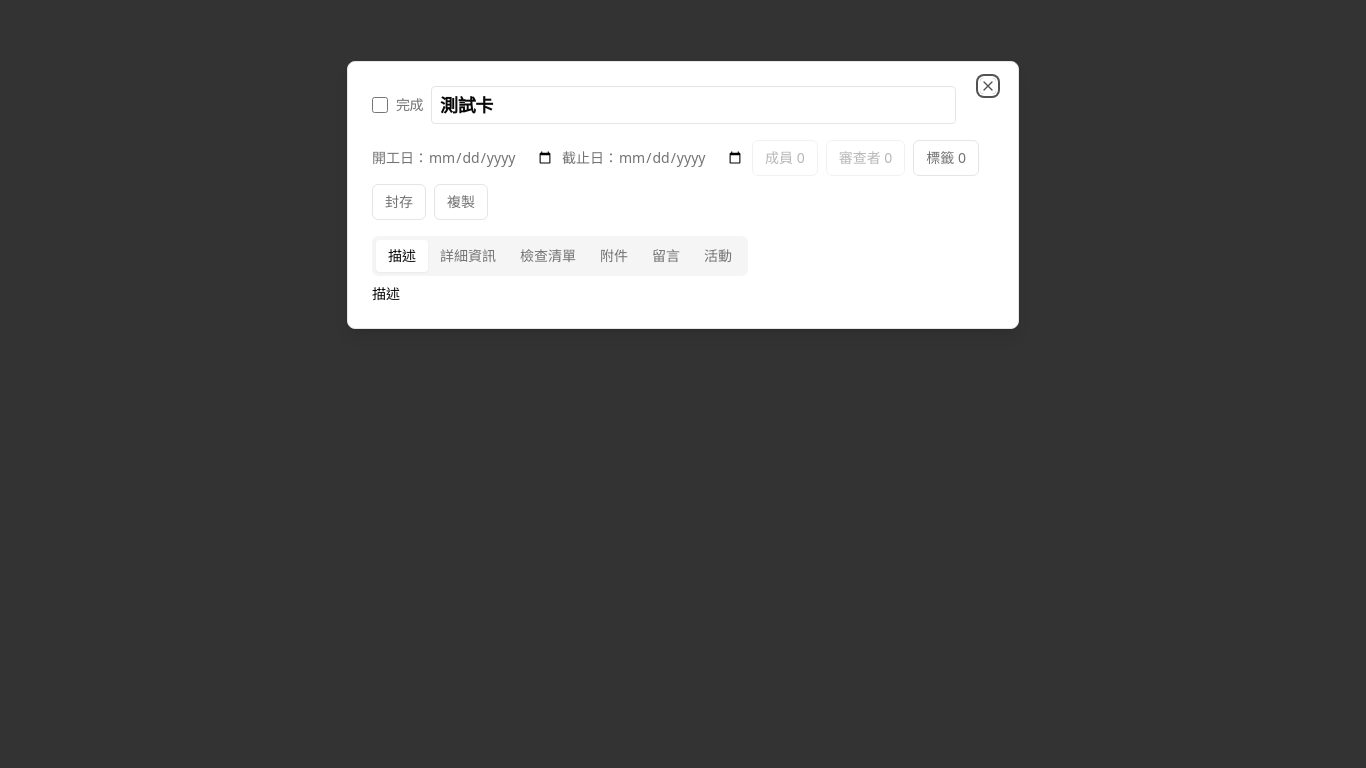
it: CopyCardDialog 三層目標選擇 › 換看板會清掉列表（同一個專案內）
Check: the field showing "測試卡" is shown, box x1=431 y1=86 x2=956 y2=124
Click the button "複製" at (461, 202), box x1=434 y1=184 x2=488 y2=220
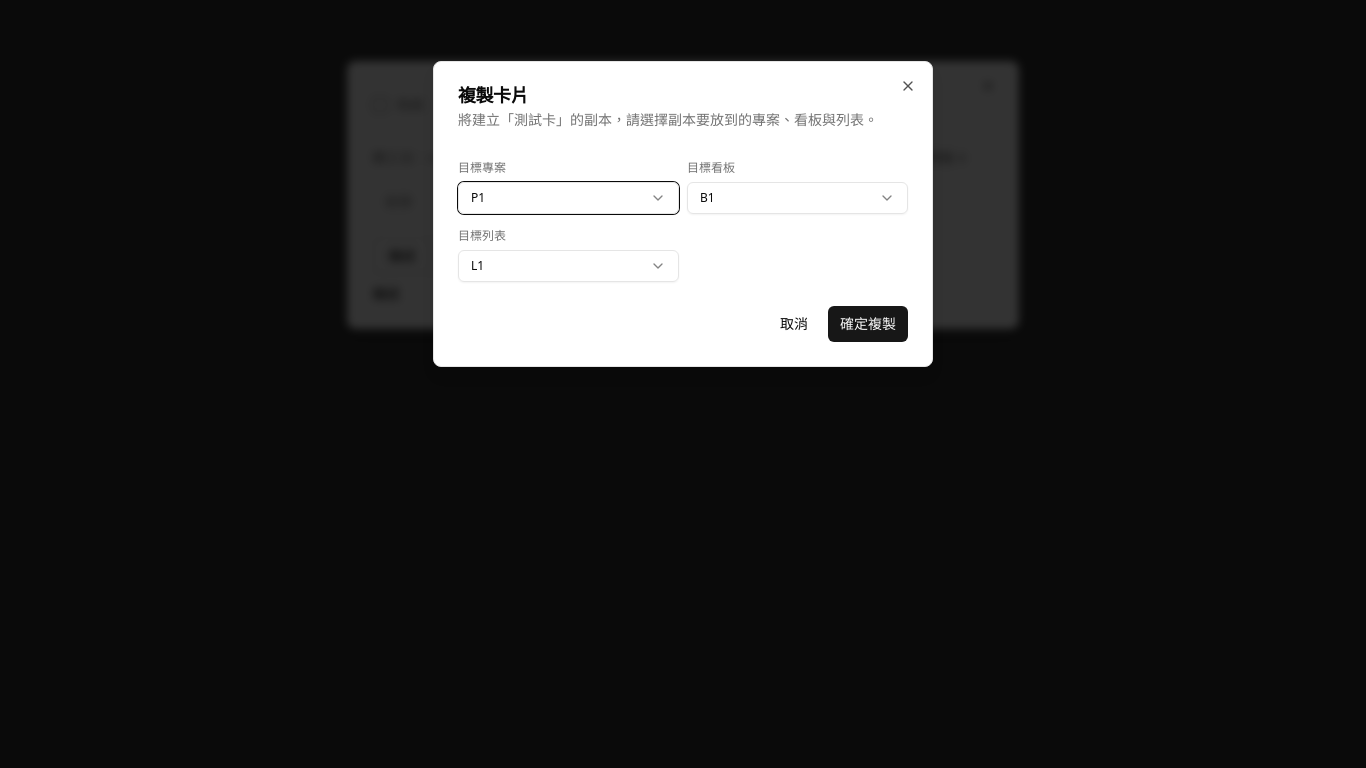
Check: the dropdown named "目標列表" is enabled, box x1=458 y1=250 x2=679 y2=282
Check: the dropdown named "目標看板" is enabled
Click the dropdown named "目標看板" at (798, 198), box x1=687 y1=182 x2=908 y2=214
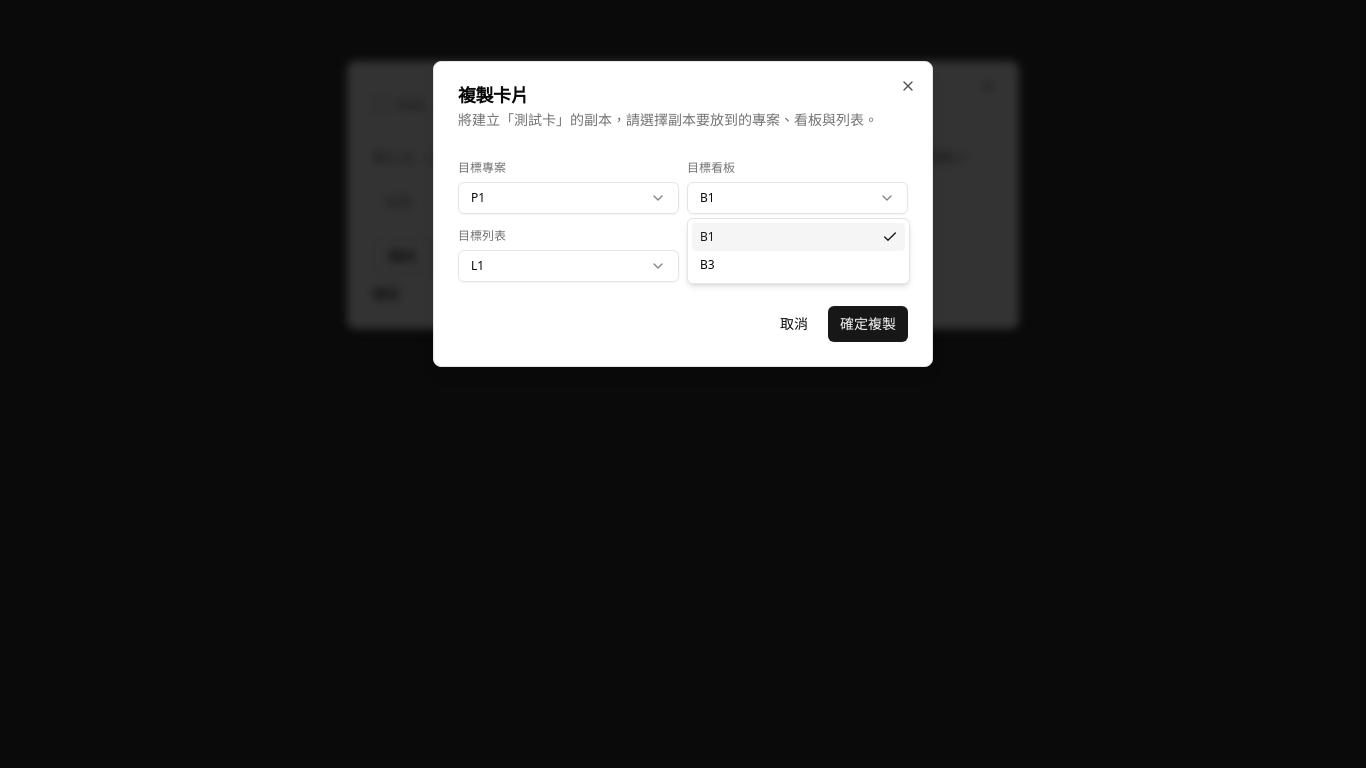
Click the option "B3" at (707, 264), box x1=700 y1=256 x2=715 y2=273
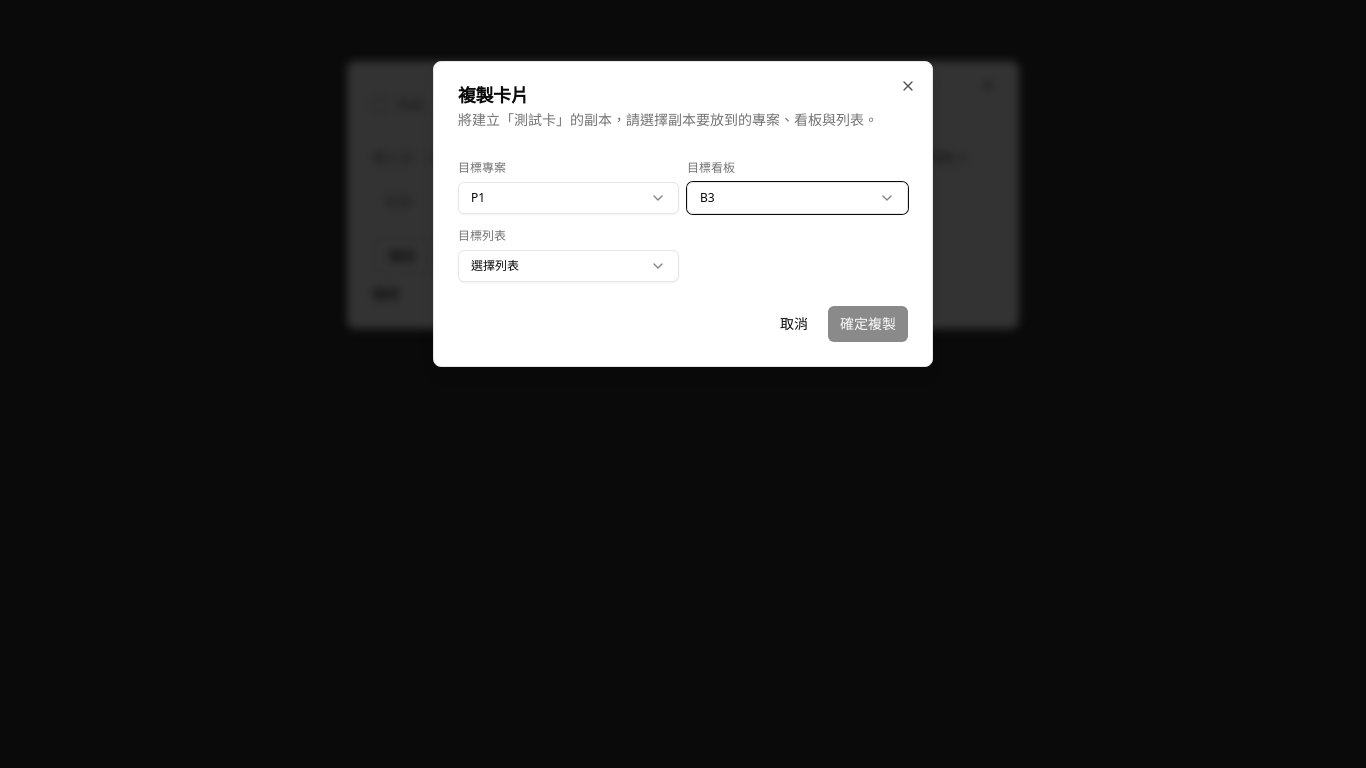
Check: the dropdown named "目標列表" no longer shows "L1", box x1=458 y1=250 x2=679 y2=282
Check: the dropdown named "目標列表" reads "選擇列表", box x1=458 y1=250 x2=679 y2=282
Check: the button "確定複製" is disabled, box x1=828 y1=306 x2=908 y2=342
